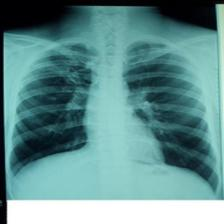tuberculosis: (5, 35, 224, 199)
